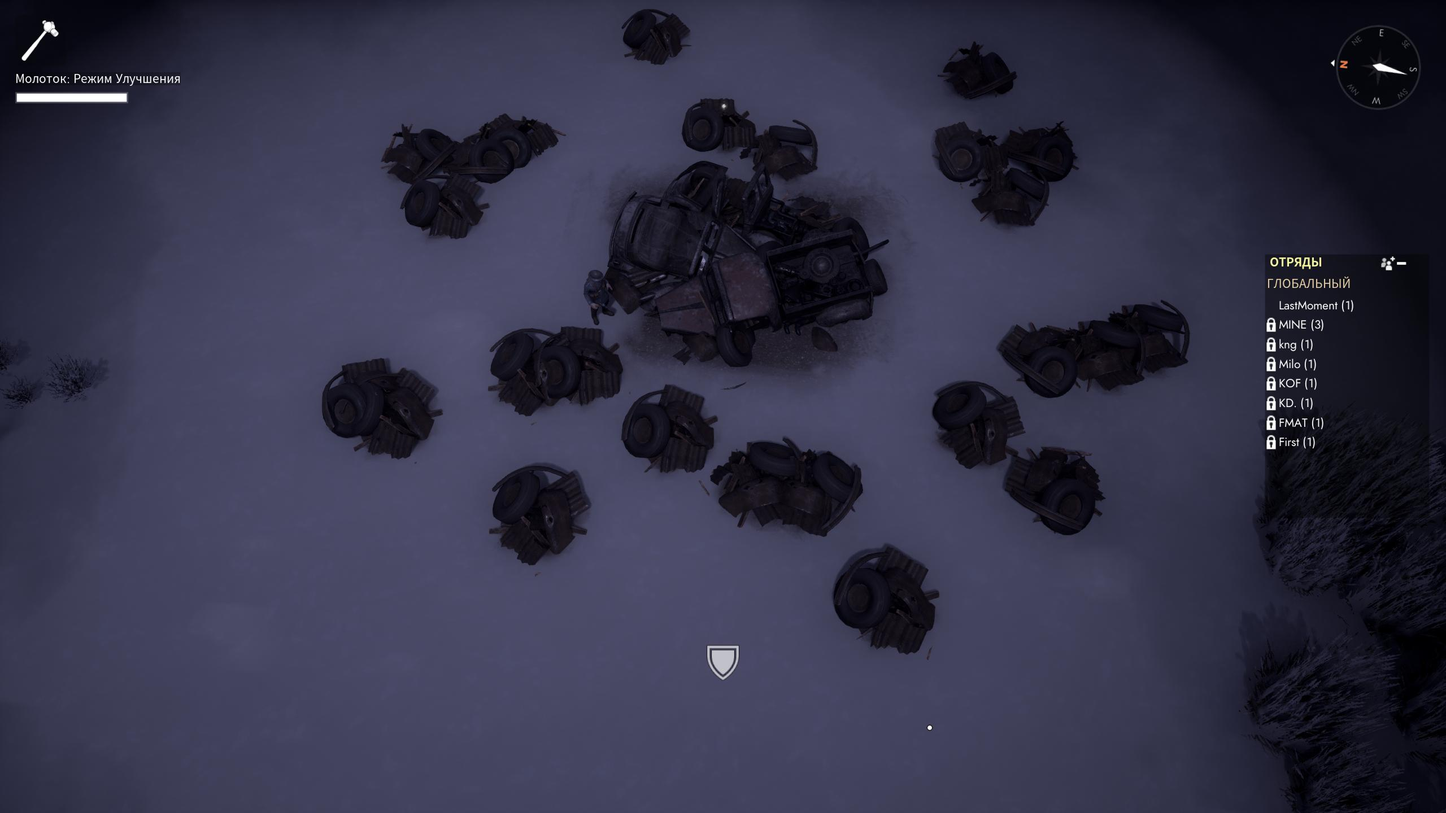player: (583, 269, 615, 324)
scrap_pile: (998, 300, 1191, 397), (711, 438, 861, 535), (487, 326, 623, 416), (321, 359, 443, 458), (830, 545, 938, 654), (381, 125, 532, 195), (489, 465, 590, 564), (1005, 447, 1104, 534), (622, 385, 716, 471), (931, 381, 1025, 467), (402, 181, 489, 238), (972, 165, 1053, 225), (935, 123, 1007, 182), (1003, 123, 1075, 182), (940, 43, 1016, 98), (682, 99, 757, 150), (622, 9, 689, 64), (754, 121, 817, 179)
terrain: (605, 161, 887, 366)
